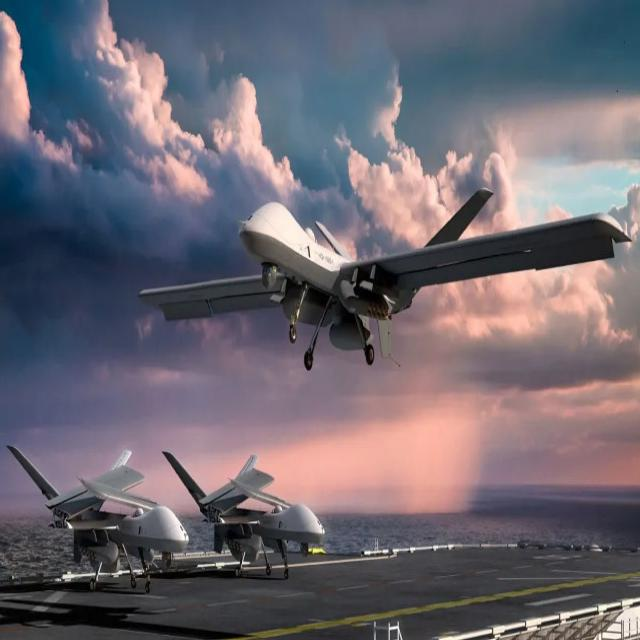MQ9: (119, 117, 640, 409), (0, 408, 194, 622), (158, 422, 339, 623)
